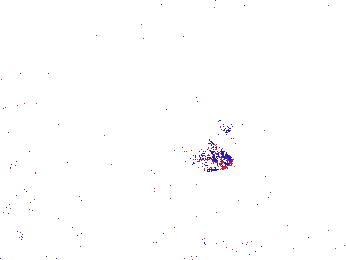X-ray fish: (206, 103, 286, 147), (183, 140, 237, 172)
